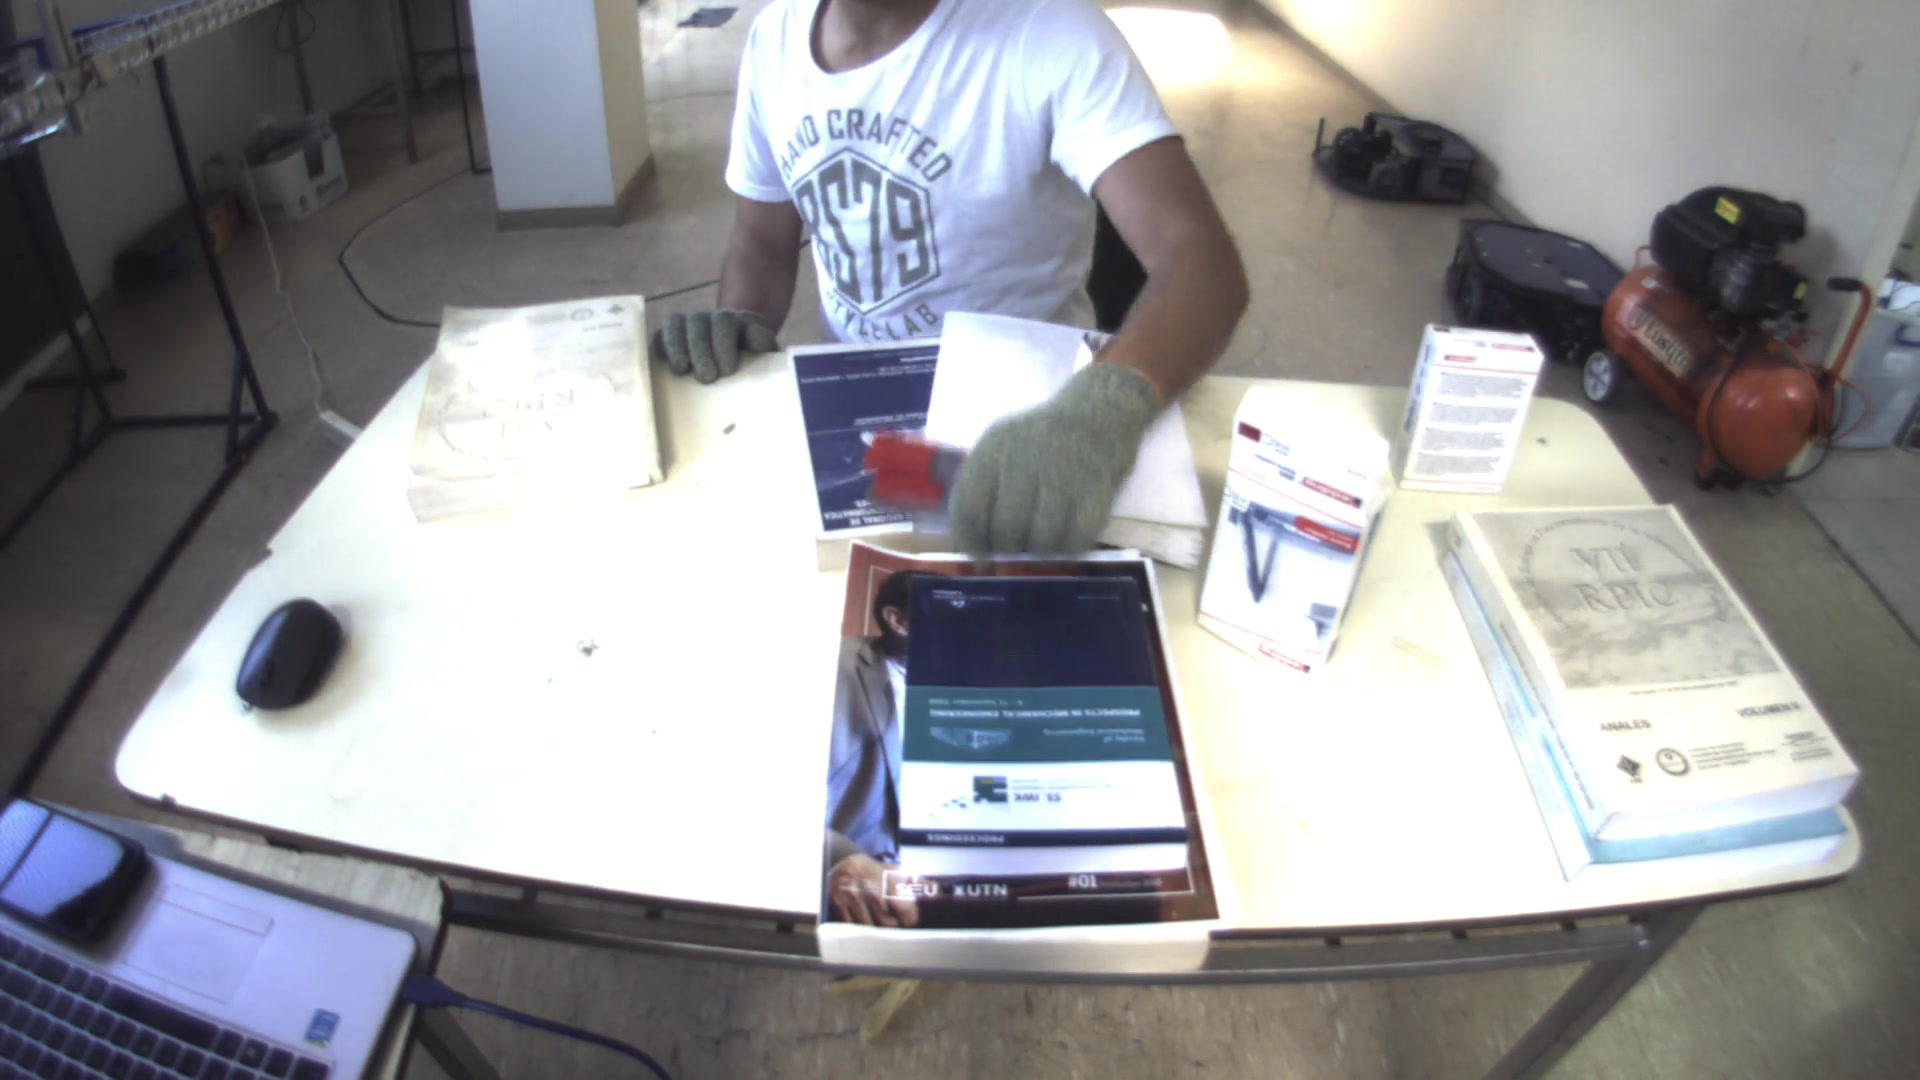hand: (947, 359, 1168, 563), (647, 305, 783, 382)
